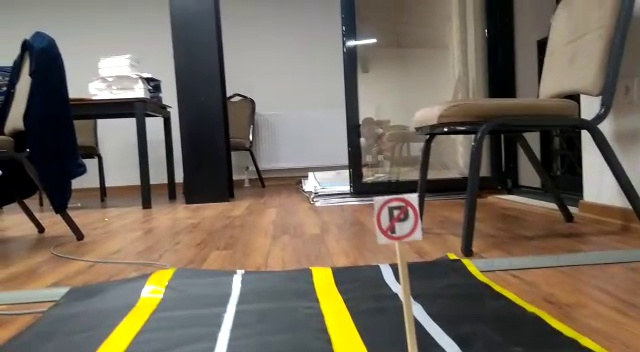park_yapilmaz: (376, 195, 417, 240)
